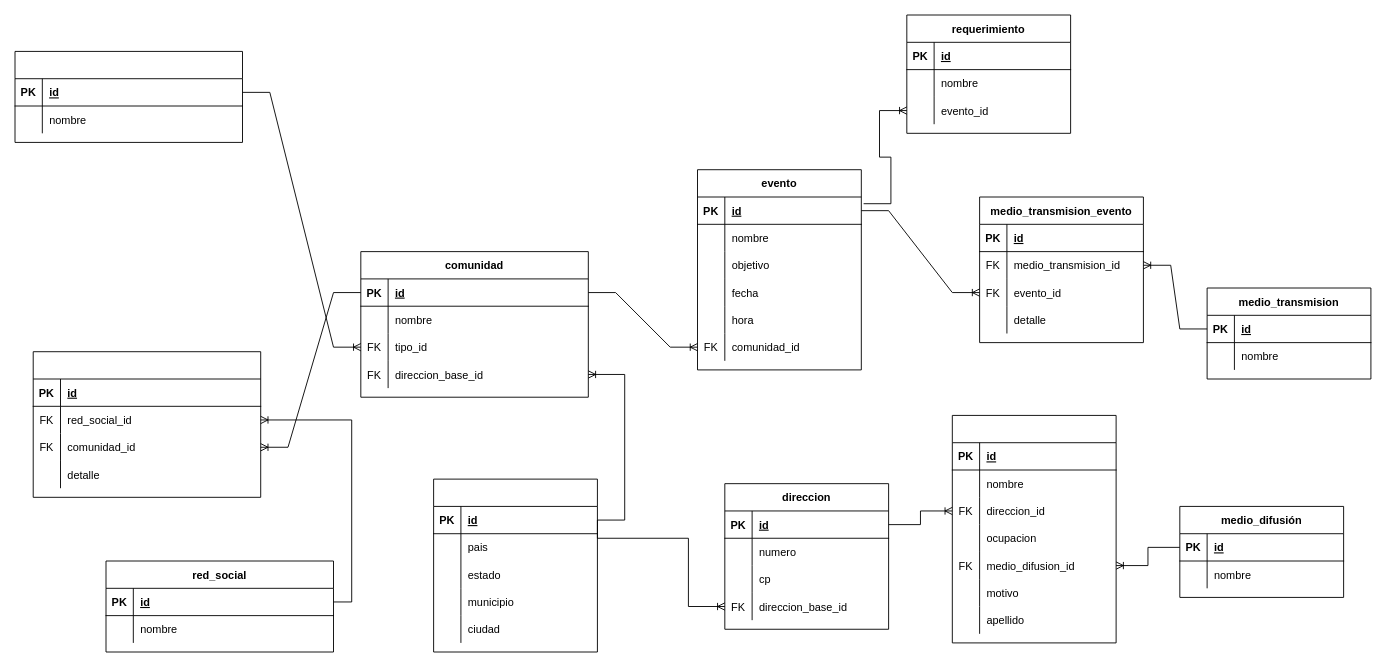
Some shapes in this 1386 by 667 pixel diagram are drawn without their labels. The box of each missing label's shape, as (x1, y1, x2, y2) in pixels:
direccion_base: (433, 478, 597, 652)
miembro: (951, 415, 1116, 643)
red_social_comunidad: (32, 351, 261, 497)
tipo_comunidad: (14, 51, 243, 142)
